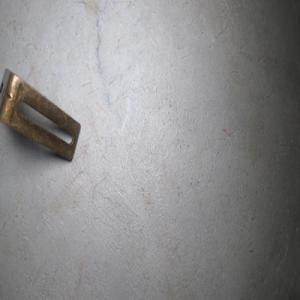MetalPart: (0, 66, 81, 162)
